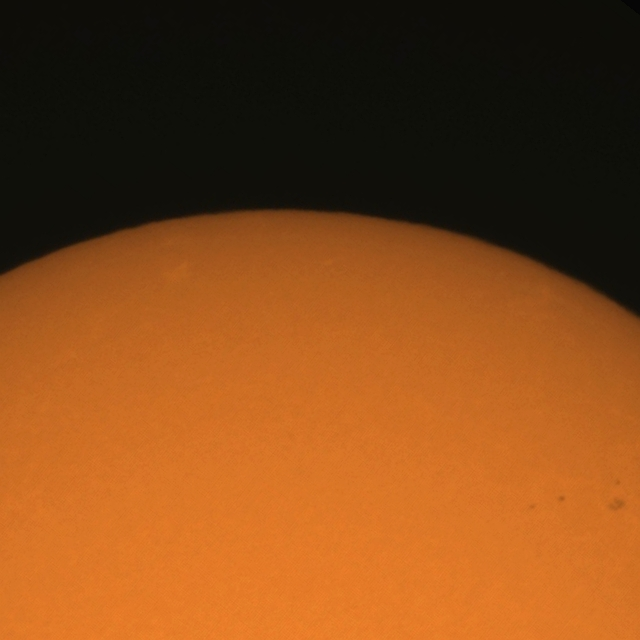sunspot: (608, 491, 628, 513), (556, 494, 566, 503), (614, 478, 622, 486)
